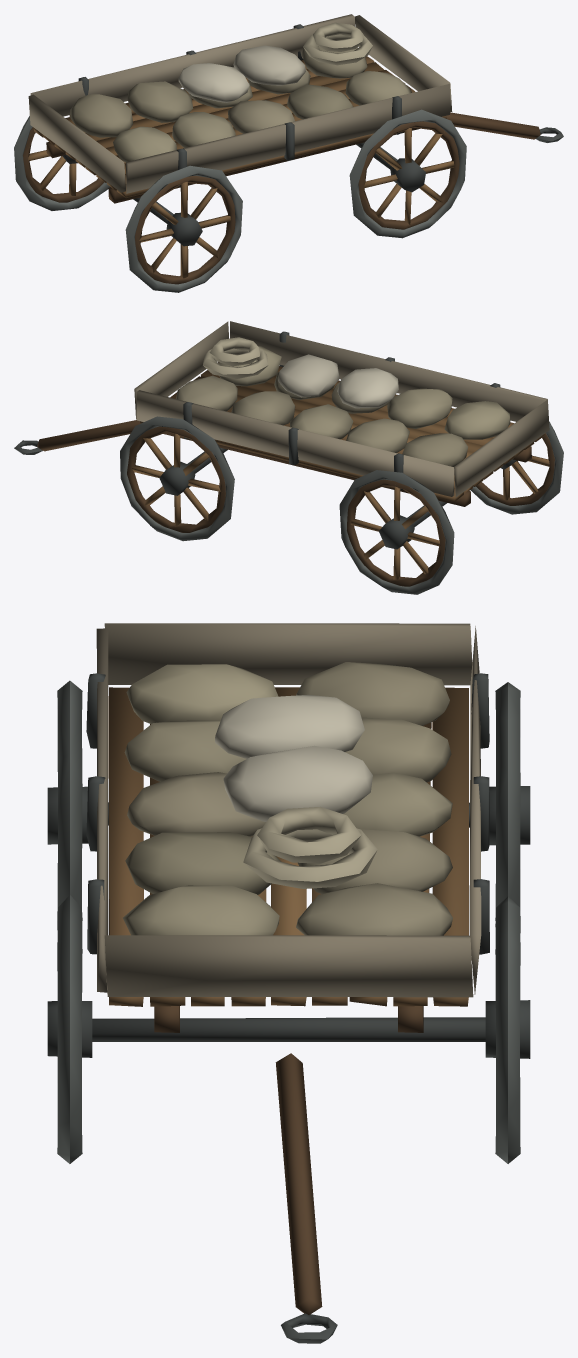
File: haul_wagon_a_lod2.glb
3 views of the same model, one above another, from view 1: azimuth 30°, elevation 25°; view 2: azimuth 150°, elevation 25°; view 3: azimuth 270°, elevation 25° (orthographic). The views are drawn at different scales.
Visible parts, largest first — view 1: Surface.001; view 2: Surface.001; view 3: Surface.001.
Part boxes in pixels (<box>): Surface.001: <box>14,14,563,292</box>; Surface.001: <box>14,321,563,594</box>; Surface.001: <box>47,623,530,1343</box>.
Bounding box in the file's own units: 5.53 × 1.73 × 2.38.
